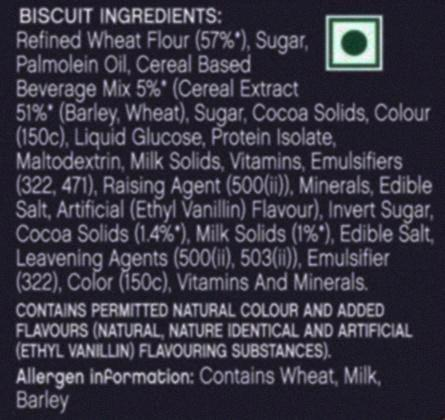ingredients: (5, 1, 445, 420)
